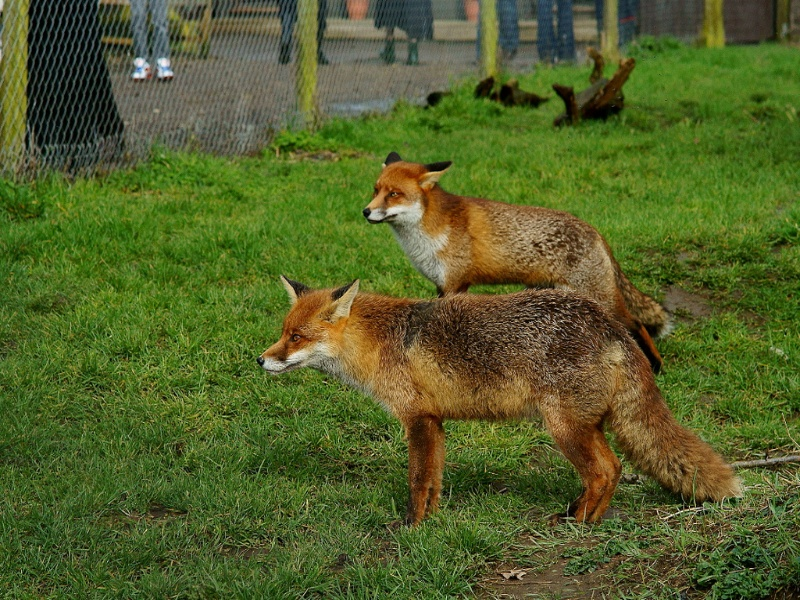fox: (249, 267, 747, 540), (360, 149, 678, 344)
